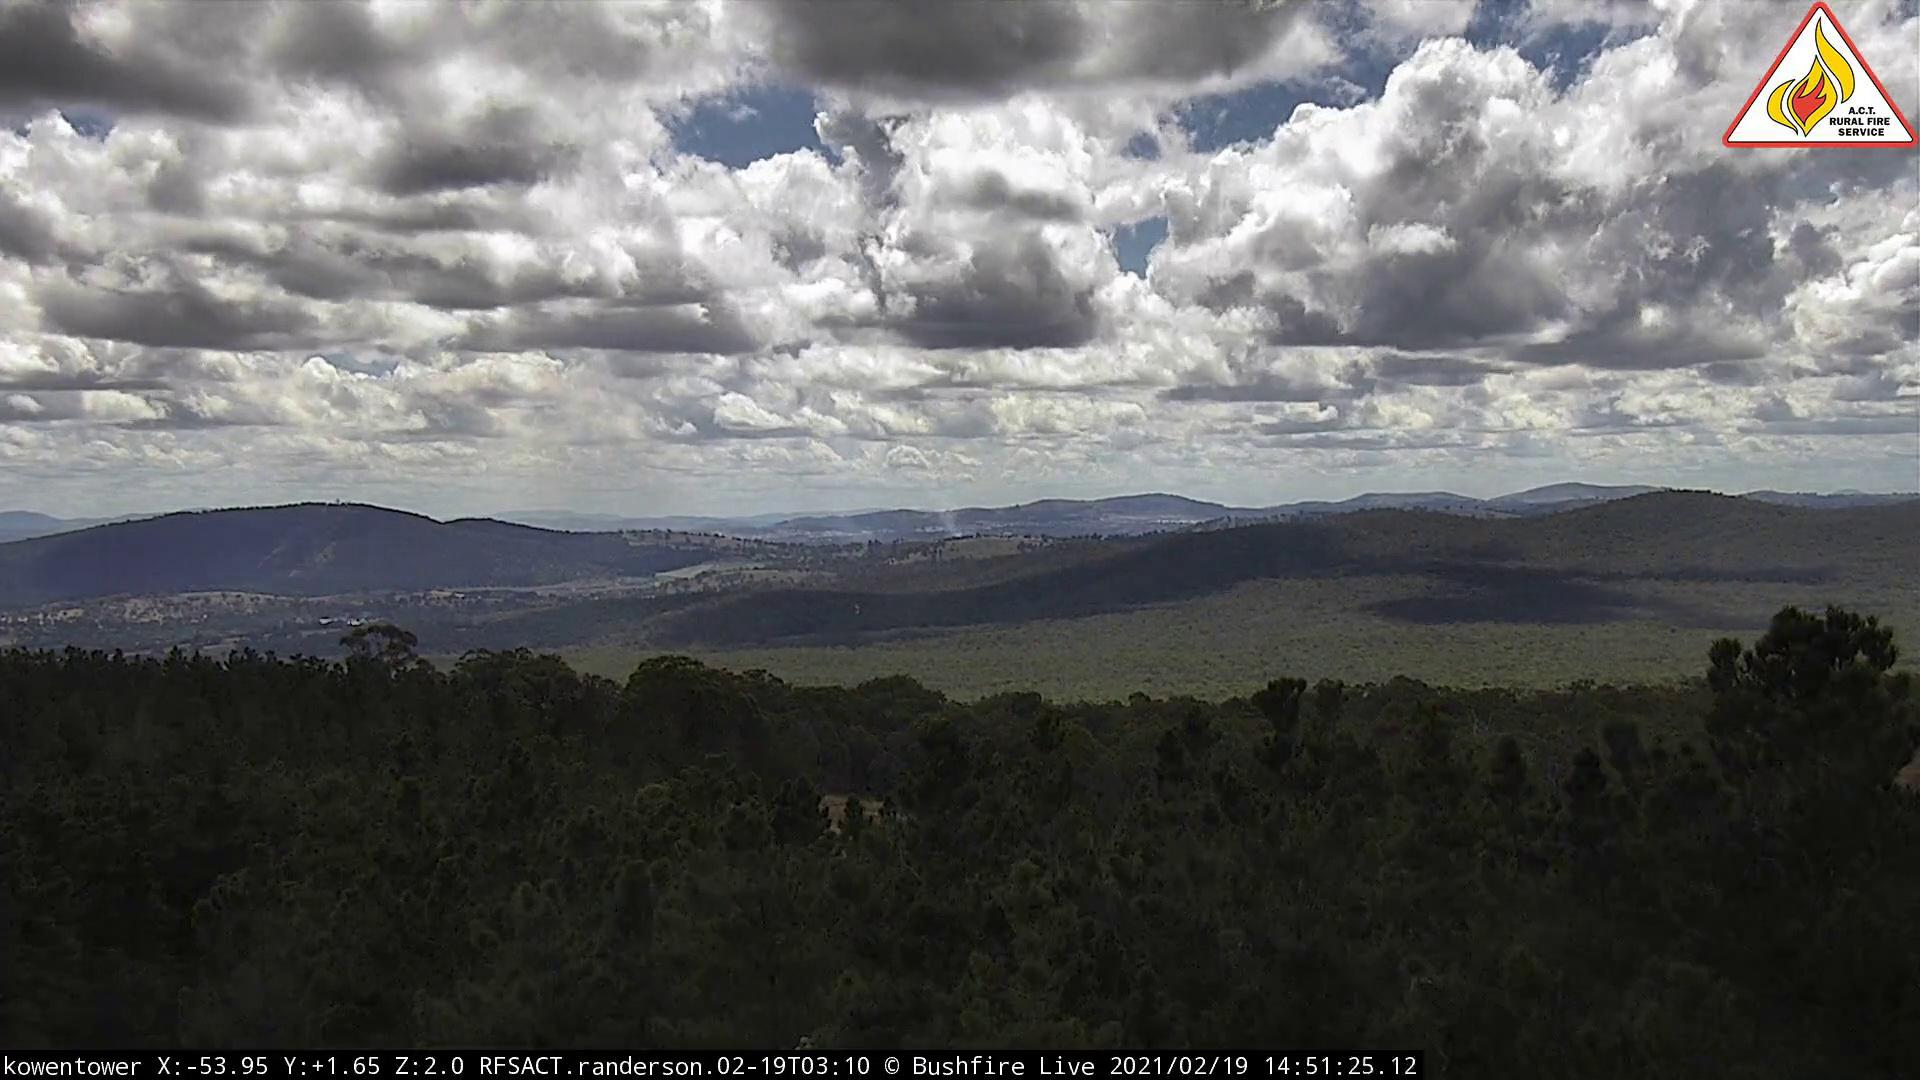Smoke: (547, 459, 975, 549)
